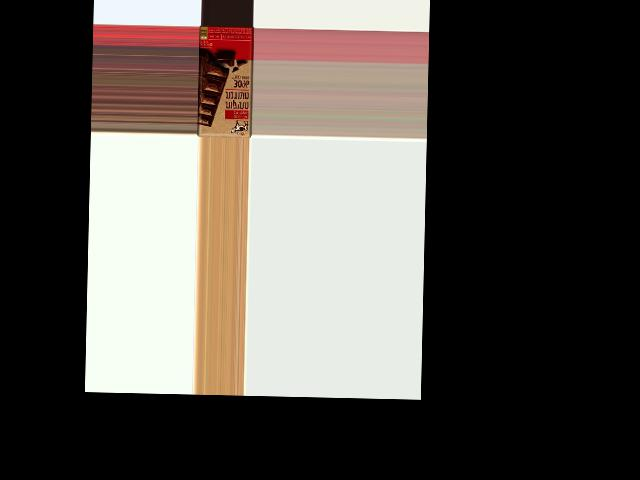chocolate: (197, 26, 254, 138)
